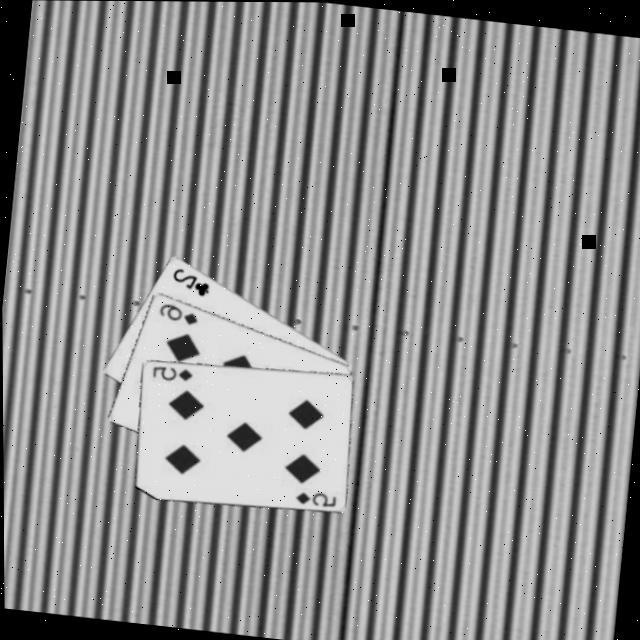2C: (166, 261, 212, 297)
5D: (146, 359, 194, 384), (290, 483, 338, 508)
6D: (153, 297, 200, 326)
